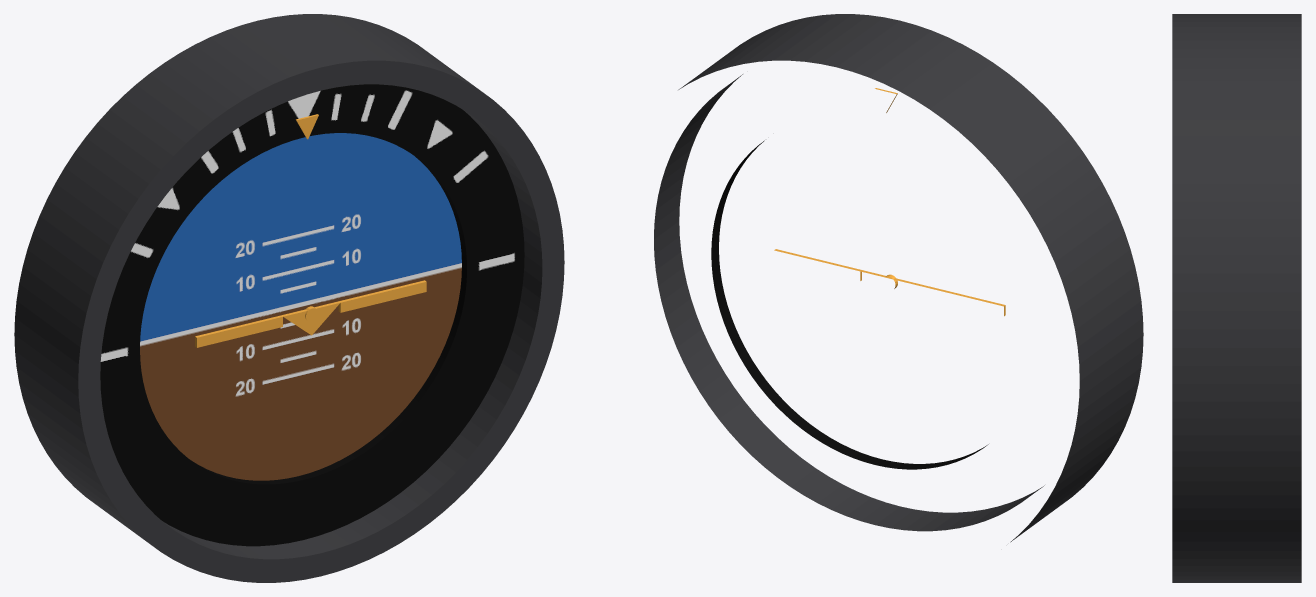
File: attitude.glb
3 renders of one model, left to right at view 1: azimuth 30°, elevation 25°; view 2: azimuth 150°, elevation 25°; view 3: azimuth 270°, elevation 25°, orthographic.
Visible parts, largest first — view 1: AI_Bezel, AI_PitchCard, AI_Mask, AI_Airplane; view 2: AI_Bezel, AI_Mask; view 3: AI_Bezel.
Boxes of the visible parts, box(x1,y1,x2,y2) form: AI_Bezel: box(14, 14, 564, 582); AI_PitchCard: box(140, 133, 461, 480); AI_Mask: box(100, 84, 524, 546); AI_Airplane: box(195, 280, 426, 347); AI_Bezel: box(654, 14, 1143, 542); AI_Mask: box(711, 140, 988, 469); AI_Bezel: box(1172, 14, 1301, 582).
Bounding box in the file's own units: 2.2 × 2.2 × 0.5.
5 materials, 3 textured.
